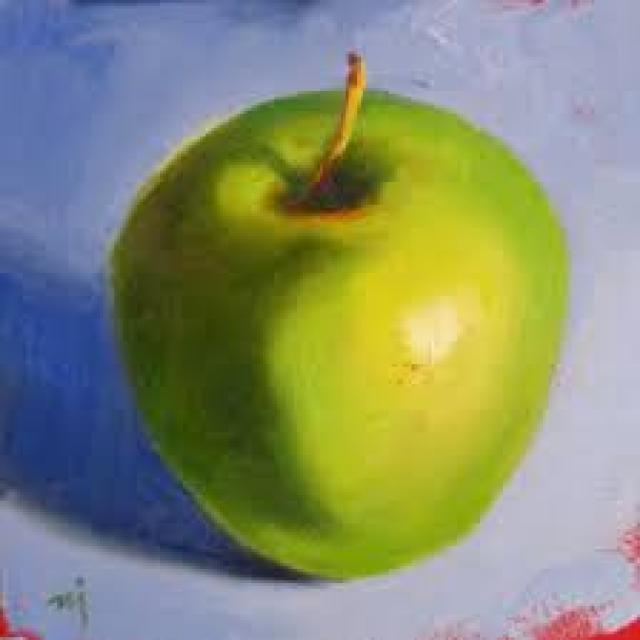Organik: (114, 64, 577, 579)
